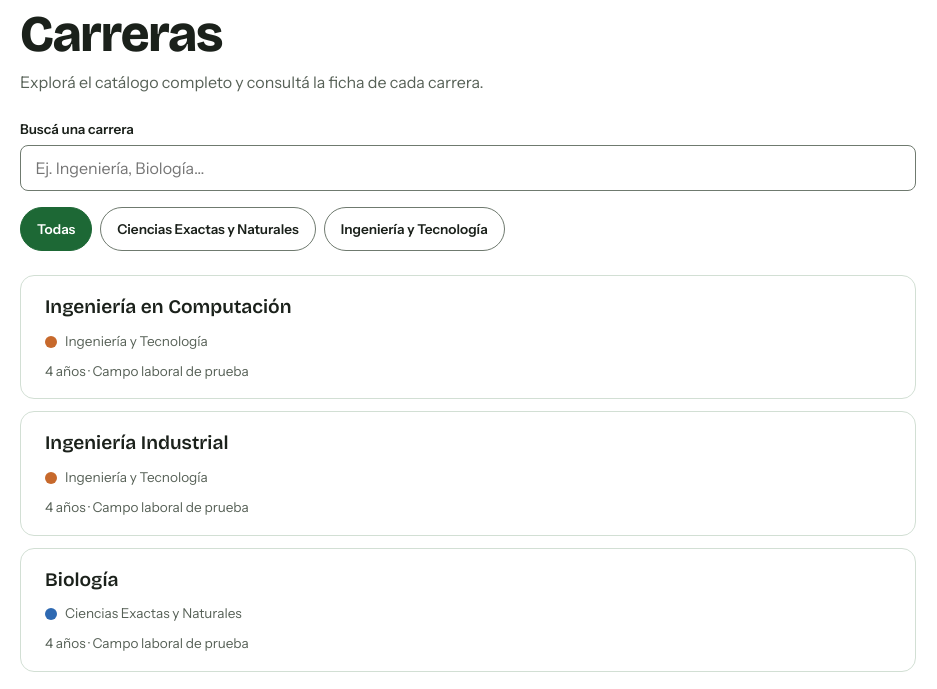
Test: CarrerasPage (HU-04) › Escenario 4: búsqueda sin resultados › muestra el mensaje de "no se encontraron carreras" y permite quitar el filtro
The image size is (937, 689).
Check: the text "Ingeniería en Computación" is shown, box [45,295,292,318]
In the search field labelled "Buscá una carrera": (468, 168) [20,145,916,191], type "panaderia"
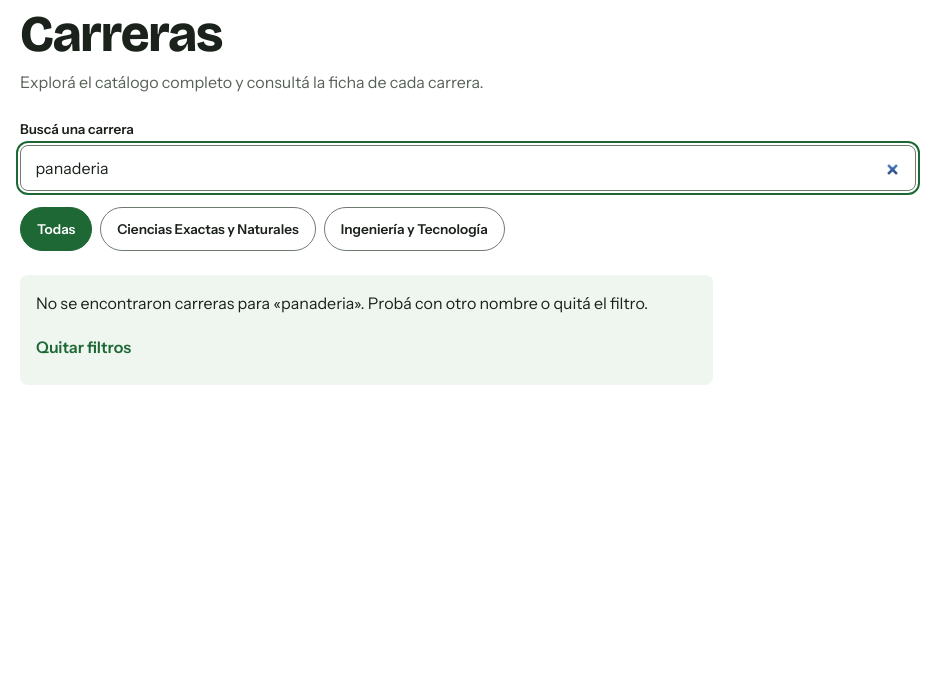
Check: the text "No se encontraron carreras para «panaderia»" is shown, box [36,291,697,317]
Click the button "Quitar filtros": (84, 347) [36,325,131,369]
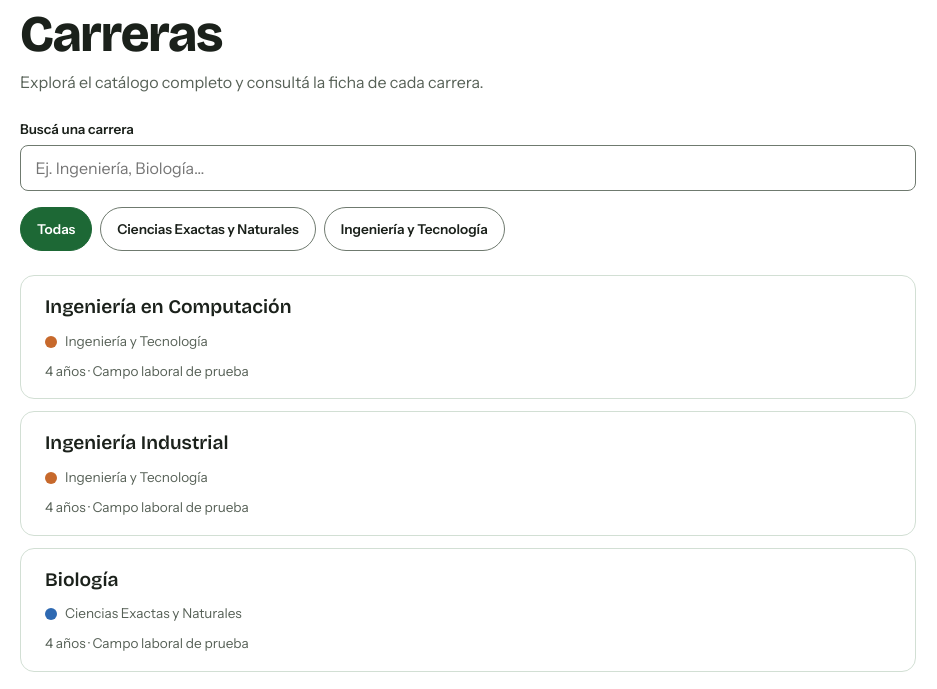
Check: the text "Ingeniería en Computación" is shown, box [45,295,292,318]
Check: the search field labelled "Buscá una carrera" is empty, box [20,145,916,191]
